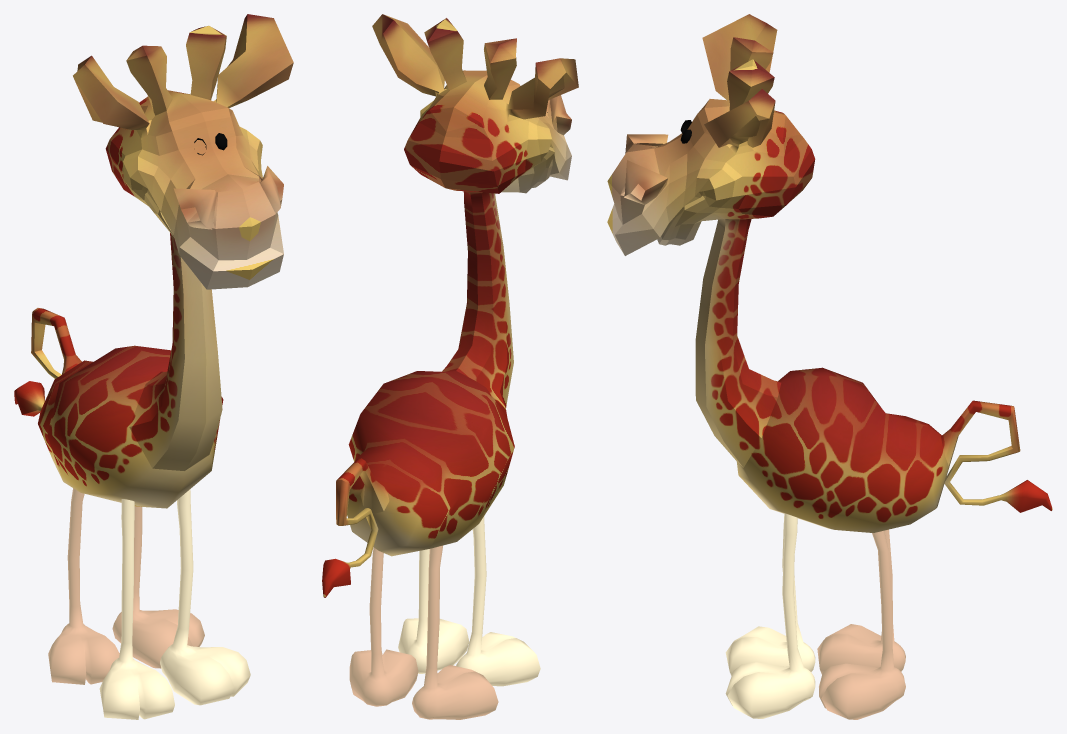
The model's file is Giraffe_FBX.fbx.
3 views of the same model, side by side, from view 1: azimuth 30°, elevation 25°; view 2: azimuth 150°, elevation 25°; view 3: azimuth 270°, elevation 25° (orthographic). The views are drawn at different scales.
Visible parts, largest first — view 1: Body, left_front_leg, right_front_leg, right_back_leg, left_back_leg; view 2: Body, right_back_leg, right_front_leg, left_back_leg, left_front_leg; view 3: Body, left_front_leg, left_back_leg, right_back_leg, right_front_leg.
Boxes of the visible parts, x1,y1,x2,y2 form: Body: (14, 14, 293, 508); left_front_leg: (160, 489, 250, 705); right_front_leg: (99, 499, 174, 719); right_back_leg: (48, 488, 119, 684); left_back_leg: (112, 506, 204, 668); Body: (322, 14, 578, 597); right_back_leg: (412, 545, 498, 719); right_front_leg: (456, 516, 540, 686); left_back_leg: (349, 547, 418, 706); left_front_leg: (398, 549, 469, 673); Body: (607, 14, 1052, 532); left_front_leg: (725, 513, 815, 718); left_back_leg: (819, 530, 905, 719); right_back_leg: (817, 529, 905, 674); right_front_leg: (725, 516, 815, 675).
Size of the model in its own units: 14.66 by 45.93 by 29.04.
Materials: 4 (1 with a texture image).
